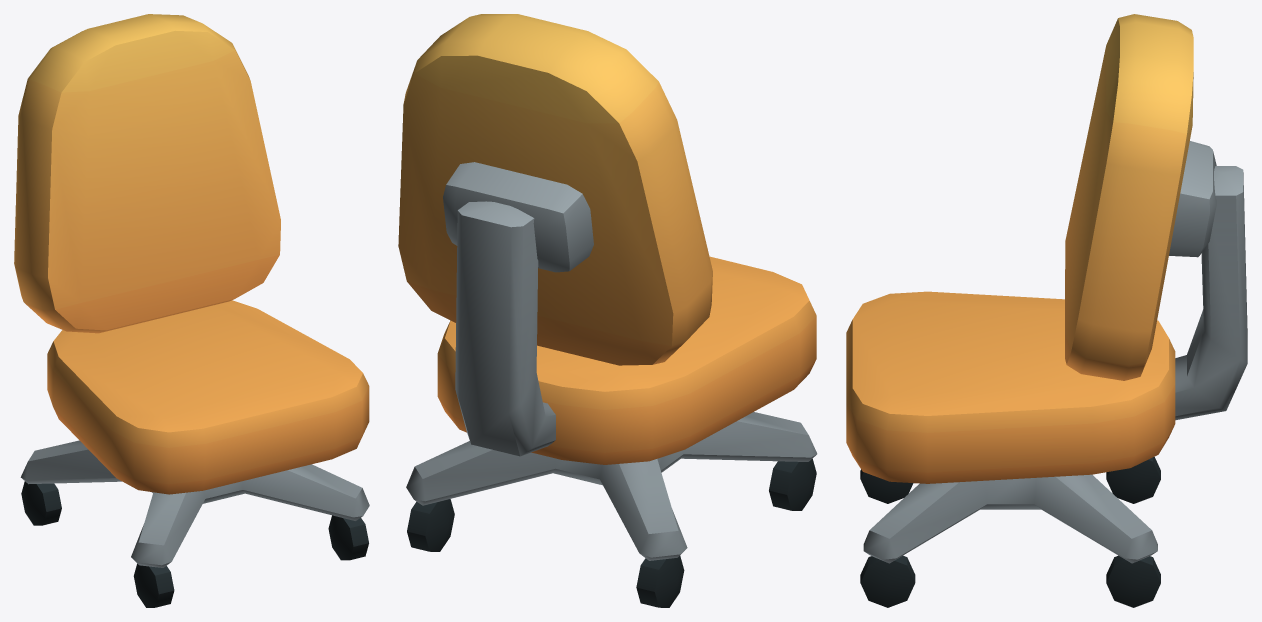
File: chair_desk_A.glb
3 views of the same model, side by side, from view 1: azimuth 30°, elevation 25°; view 2: azimuth 150°, elevation 25°; view 3: azimuth 270°, elevation 25° (orthographic). The views are drawn at different scales.
Visible parts, largest first — view 1: chair_desk_A; view 2: chair_desk_A; view 3: chair_desk_A.
Part boxes in pixels (x1=…): chair_desk_A: x1=14, y1=14, x2=369, y2=607; chair_desk_A: x1=398, y1=14, x2=817, y2=607; chair_desk_A: x1=846, y1=14, x2=1247, y2=607.
Size of the model in its own units: 0.7004 by 1.29 by 0.915.
1 material, 1 textured.
